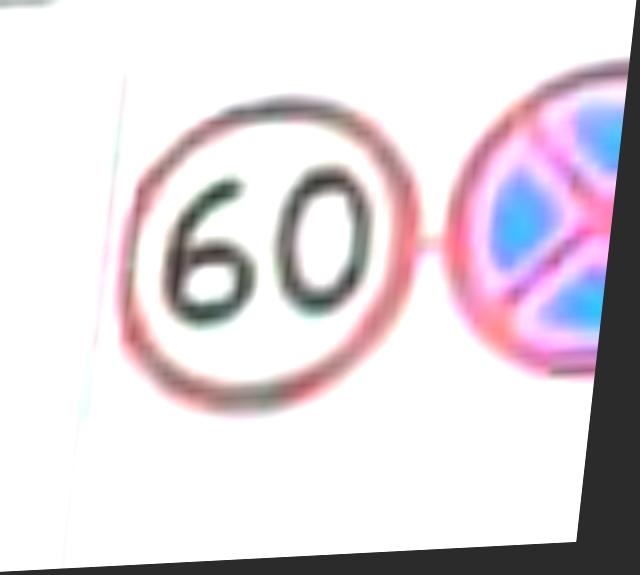limit60: (57, 65, 477, 447)
